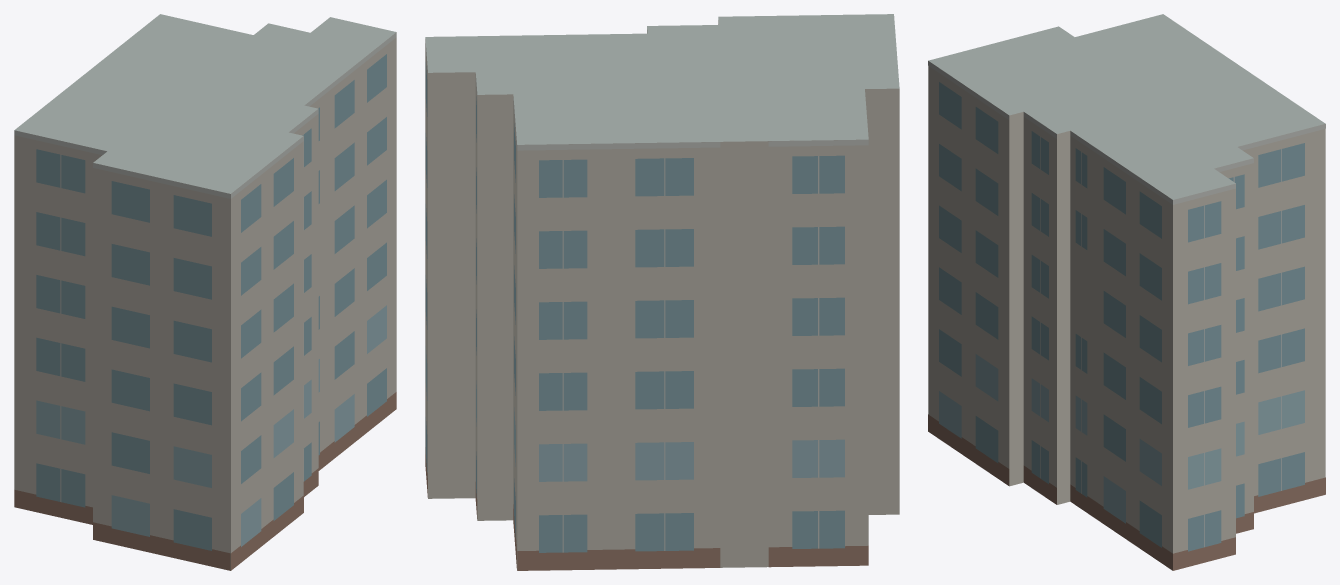
File: survey-upis-32564154.glb
3 views of the same model, side by side, from view 1: azimuth 30°, elevation 25°; view 2: azimuth 150°, elevation 25°; view 3: azimuth 270°, elevation 25° (orthographic). The views are drawn at different scales.
Parts seen in each view (by area): view 1: survey-upis-32564154.tmp; view 2: survey-upis-32564154.tmp; view 3: survey-upis-32564154.tmp.
Boxes of the visible parts, x1=… form: survey-upis-32564154.tmp: x1=14, y1=14, x2=396, y2=570; survey-upis-32564154.tmp: x1=425, y1=14, x2=899, y2=570; survey-upis-32564154.tmp: x1=928, y1=14, x2=1325, y2=570.
Bounding box in the file's own units: 19.69 × 18.3 × 17.79.
